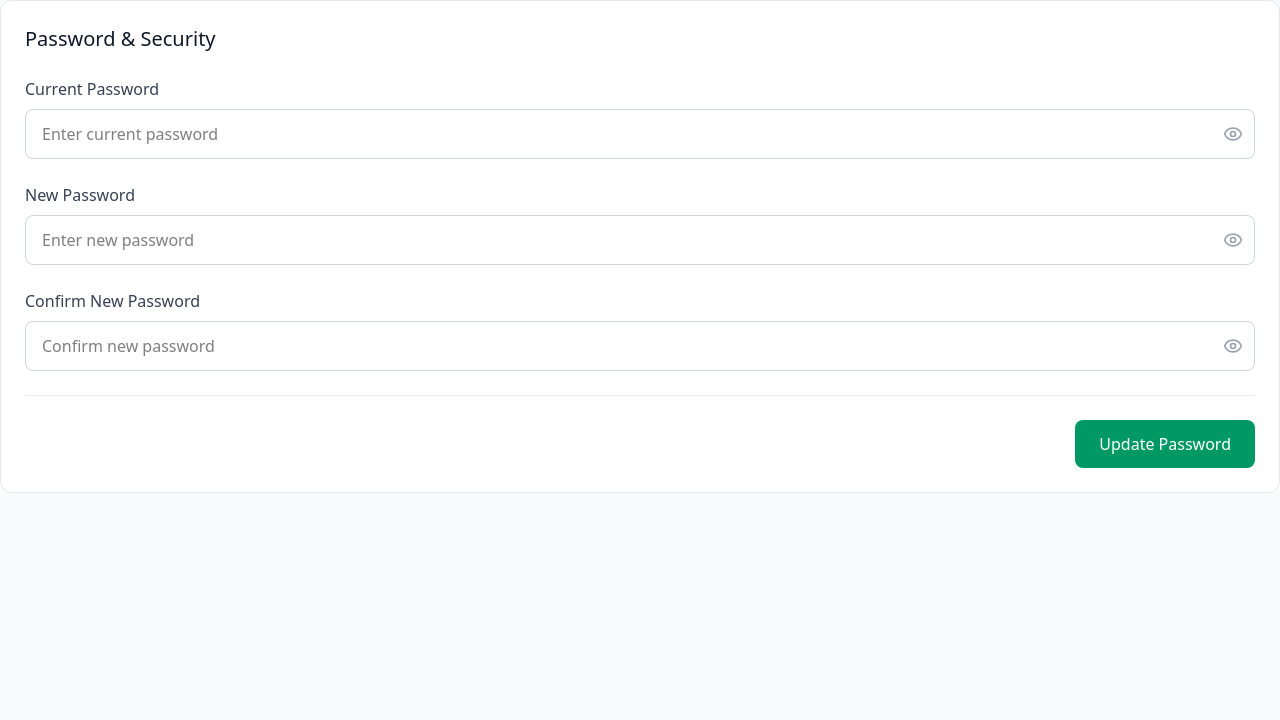
Scenario: PasswordChangeCard › shows error when password is missing uppercase letter
Type "OldPassword1!" into the password field with placeholder "Enter current password" at (640, 134), box [25,109,1255,159]
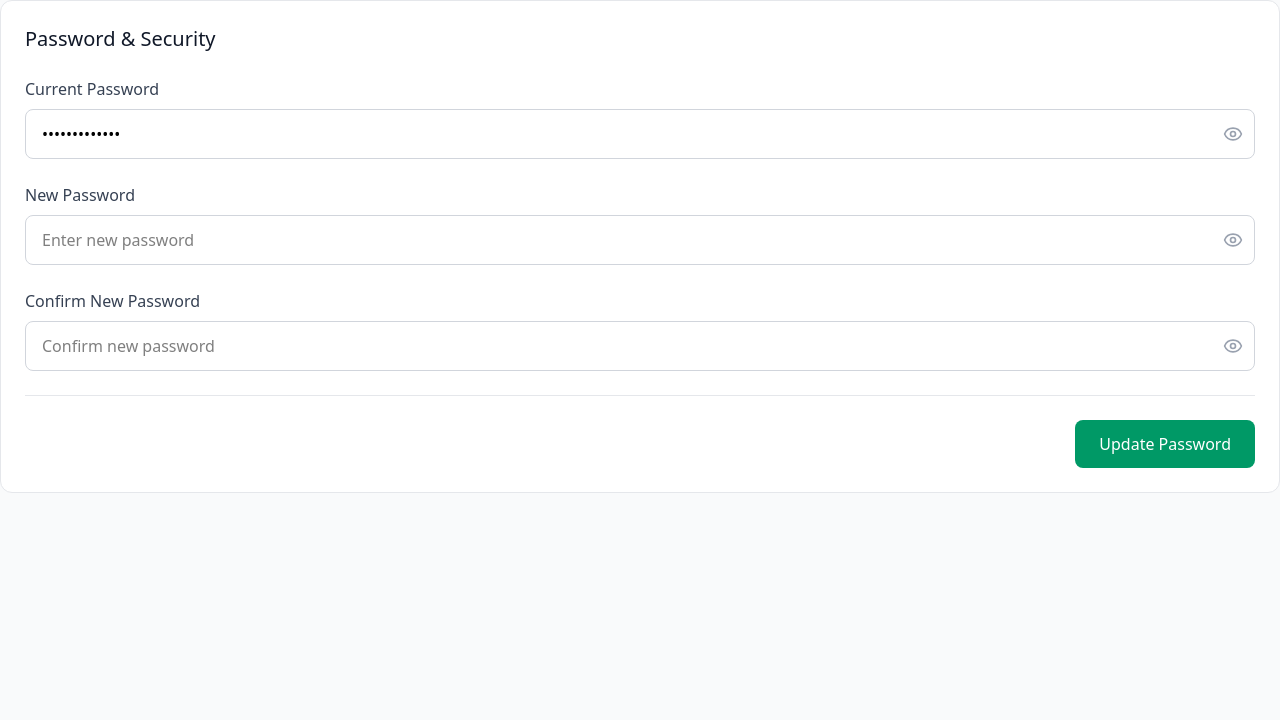
Type "password1!" into the password field with placeholder "Enter new password" at (640, 240), box [25,215,1255,265]
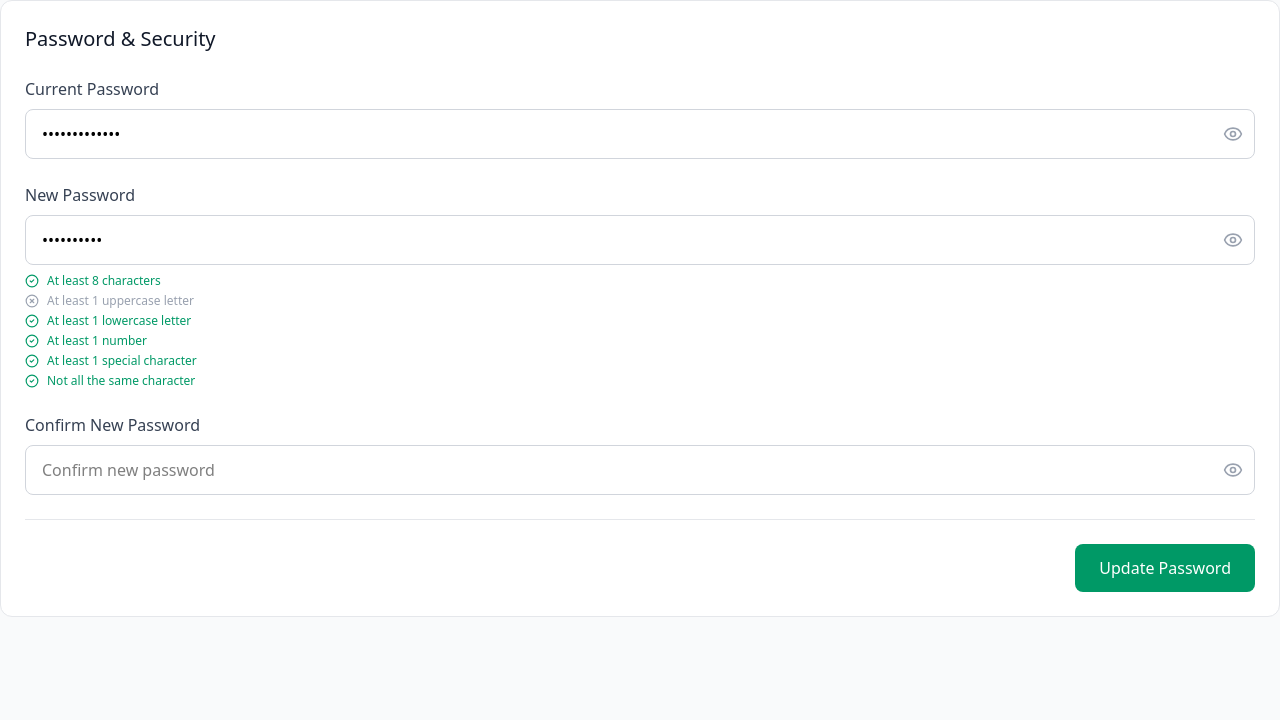
Type "password1!" into the password field with placeholder "Confirm New Password" at (640, 470), box [25,445,1255,495]
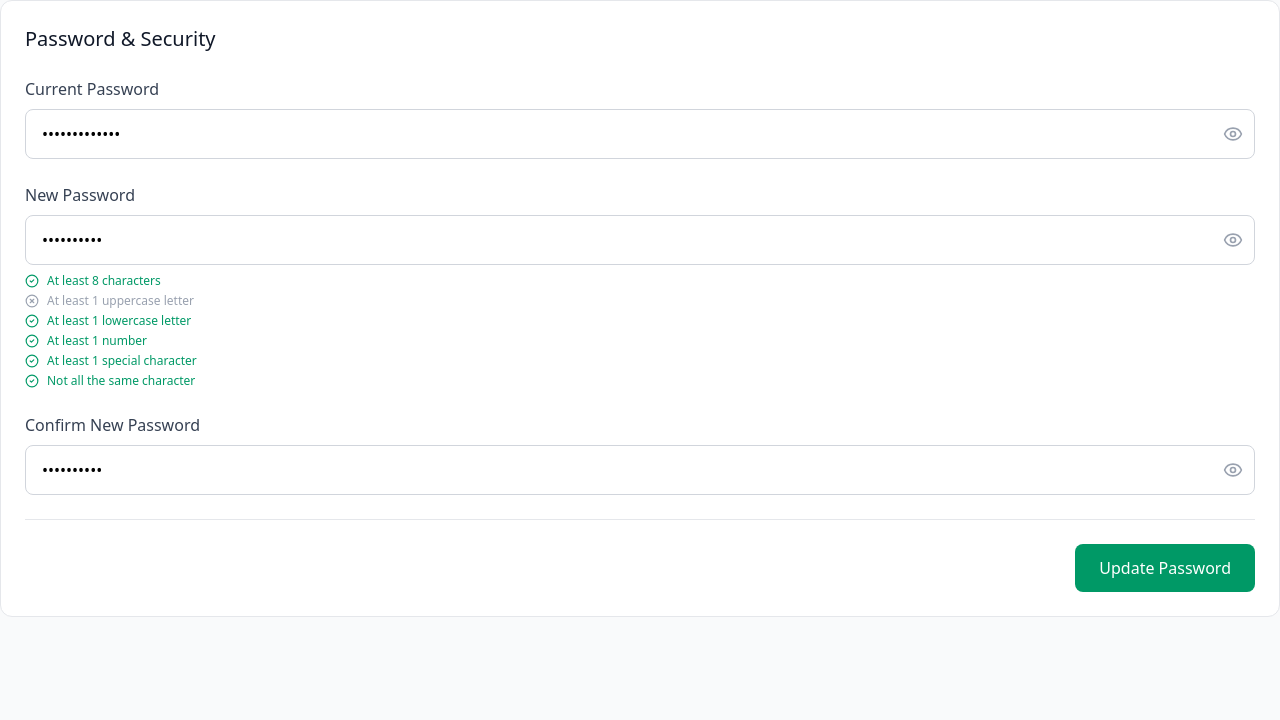
Click the button "Update Password" at (1165, 568), box [1075,544,1255,592]
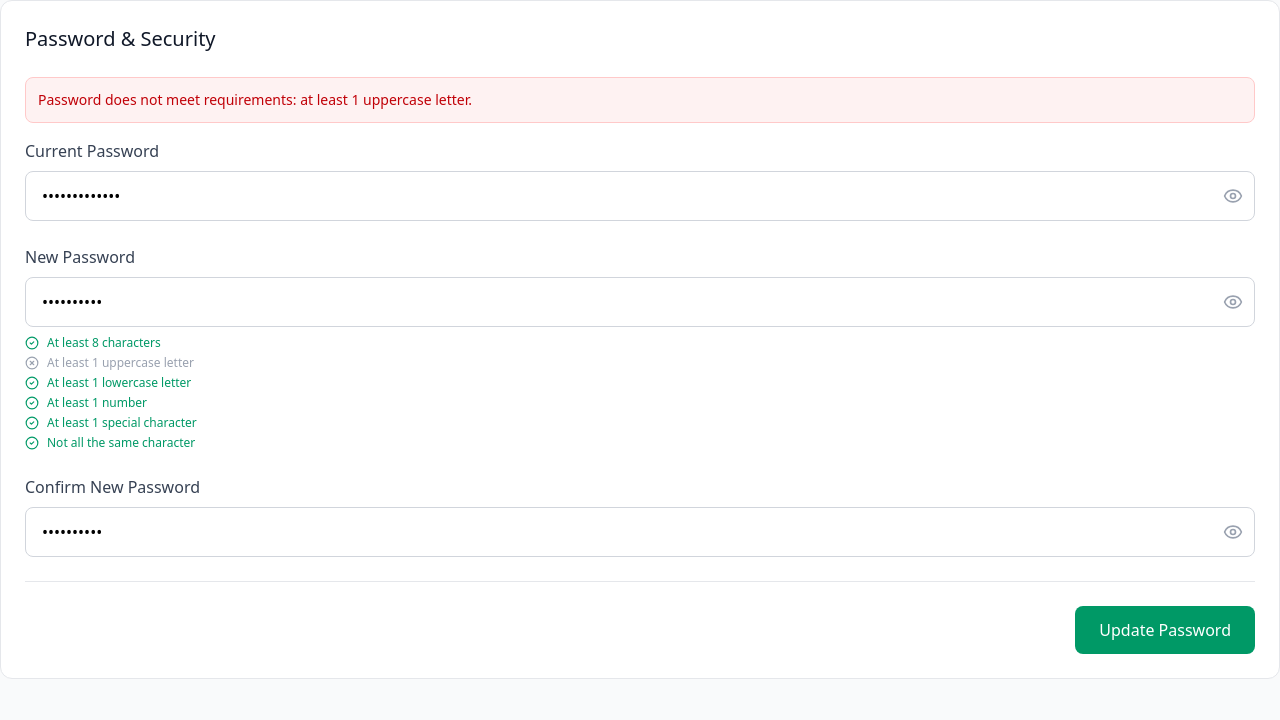
Expected: the text "Password does not meet requirements: at least 1 uppercase letter" is shown, [38,90,472,109]
